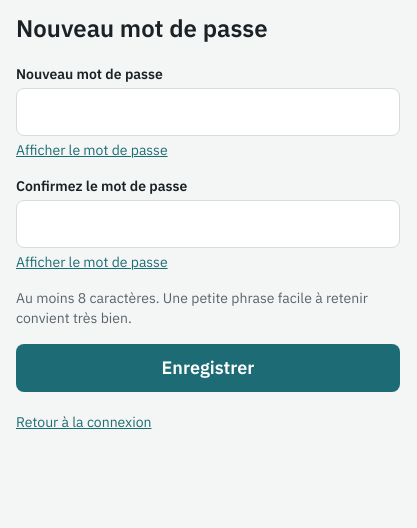
account links and forgotten password (D1, D4, D5) › D5_theServerReasonOfARefusedPasswordIsShown
In the password field labelled "Nouveau mot de passe": [208, 112] box x1=16 y1=88 x2=400 y2=136, type "password123"
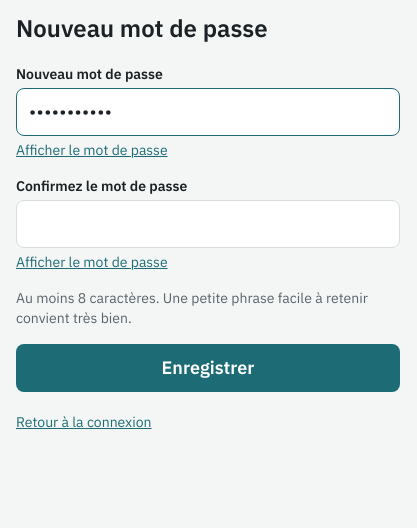
In the password field labelled "Confirmez le mot de passe": [208, 224] box x1=16 y1=200 x2=400 y2=248, type "password123"
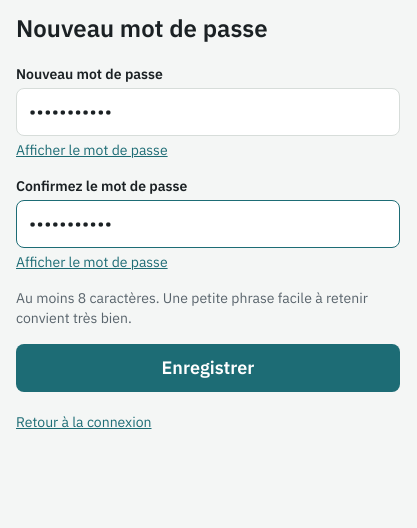
Click the button "Enregistrer": [208, 368] box x1=16 y1=344 x2=400 y2=392
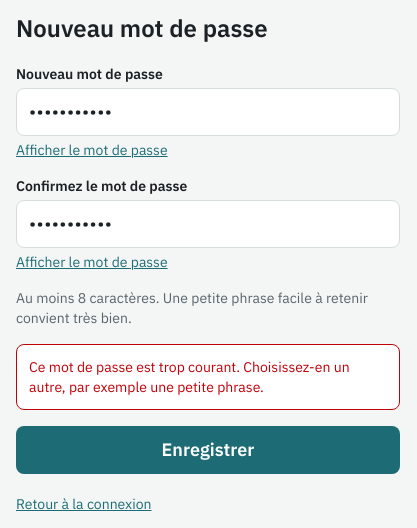
Now the message shows "Ce mot de passe est trop courant", box x1=29 y1=358 x2=350 y2=396
